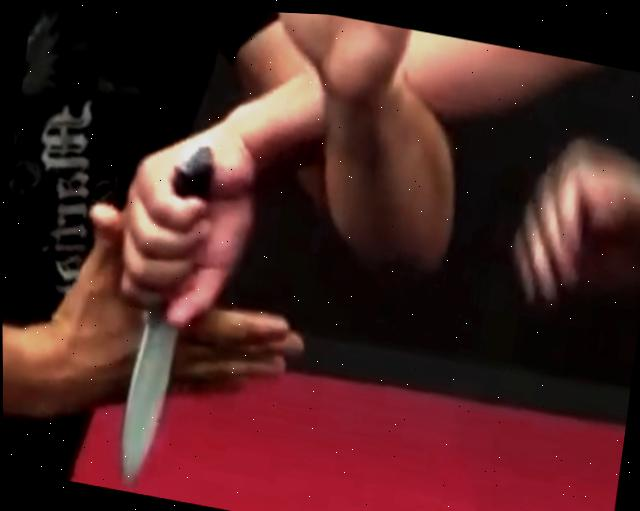long knife: (86, 102, 259, 506)
